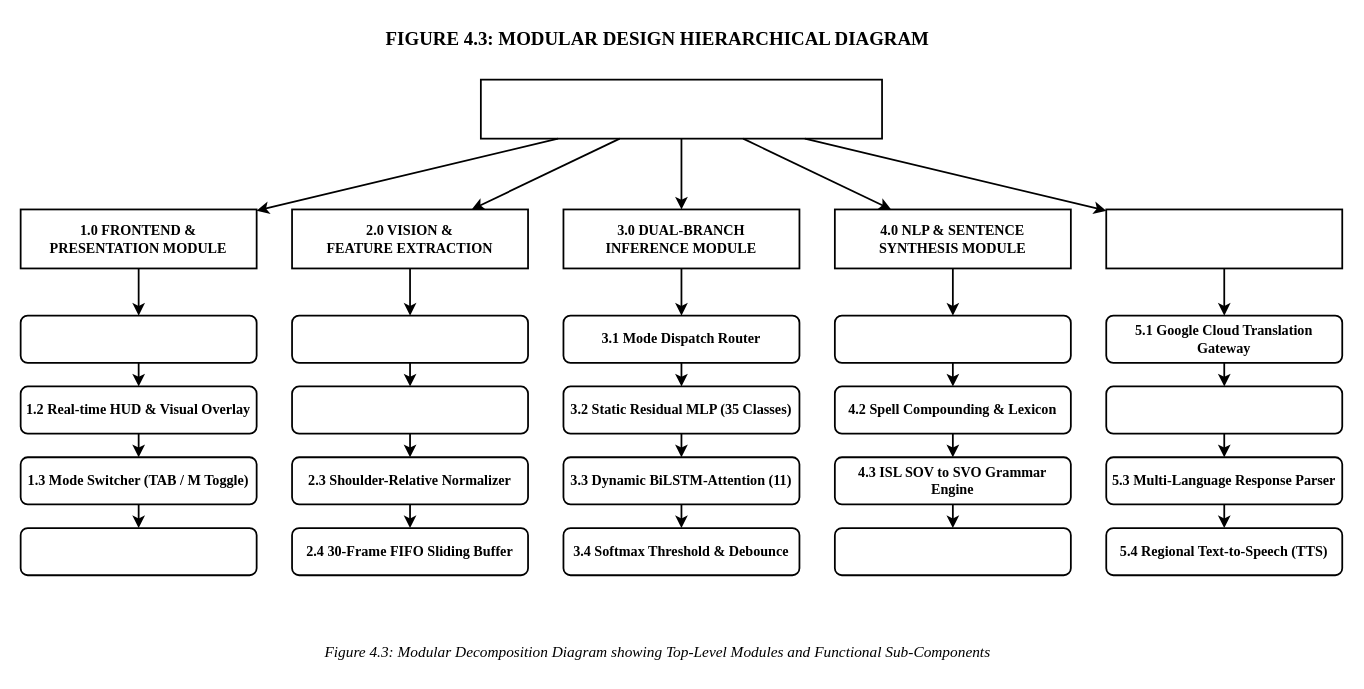
Some shapes in this 1364 by 689 pixel diagram are drawn without their labels. The centre of each missing label's shape, as x and y in pixels:
1.1 Webcam Stream Controller: the point at 138,338
1.4 Regional Language Selector UI: the point at 138,551
2.1 MediaPipe Holistic Extractor: the point at 409,338
2.2 Keypoint Concatenator (534 Dims): the point at 409,409
4.1 Raw Sign Gloss Tokenizer: the point at 952,338
4.4 Natural English Synthesizer: the point at 952,551
5.0 GOOGLE TRANSLATE & LOCALIZATION MODULE: the point at 1224,238
5.2 API Key Auth & Token Manager: the point at 1224,409
ISL TO MULTILINGUAL TRANSLATION SYSTEM: the point at 680,108
